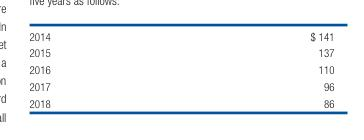table: (28, 29, 333, 109)
table column: (179, 29, 333, 109), (28, 29, 179, 109)
table row: (28, 60, 333, 77), (28, 77, 333, 94), (28, 44, 333, 60), (28, 29, 333, 44), (28, 94, 333, 109)
